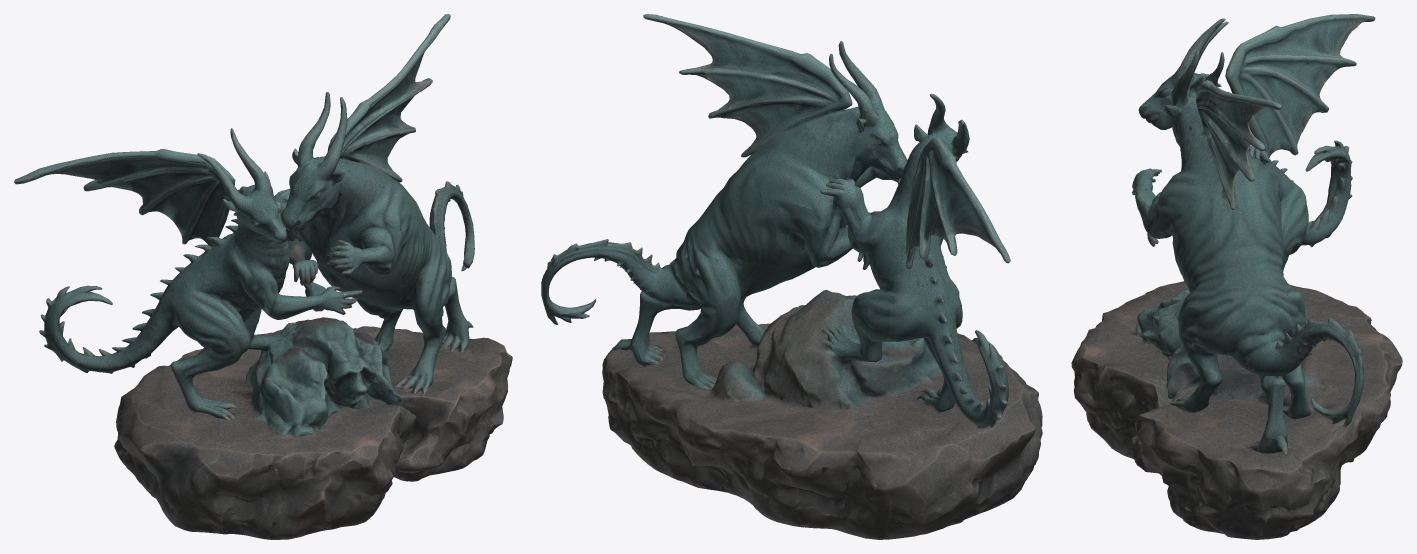
File: DragonBullGroup.fbx
The picture shows the model from 3 angles, left to right: view 1: azimuth 30°, elevation 25°; view 2: azimuth 150°, elevation 25°; view 3: azimuth 270°, elevation 25°; orthographic projection. The views are drawn at different scales.
Parts seen in each view (by area): view 1: DragonBullGroup; view 2: DragonBullGroup; view 3: DragonBullGroup.
Boxes of the visible parts, bbox=[...] form: DragonBullGroup: bbox=[14, 14, 512, 539]; DragonBullGroup: bbox=[541, 14, 1042, 539]; DragonBullGroup: bbox=[1071, 14, 1402, 539].
Bounding box in the file's own units: 5.07 × 4.4 × 3.1.
